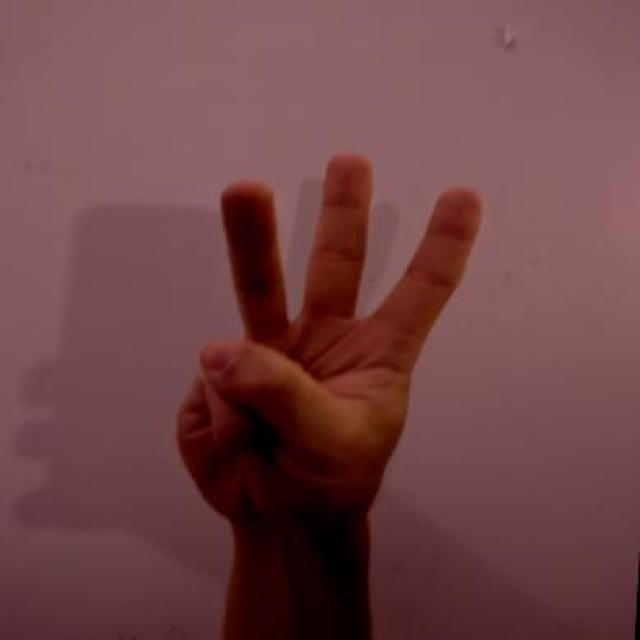W: (164, 136, 492, 540)
